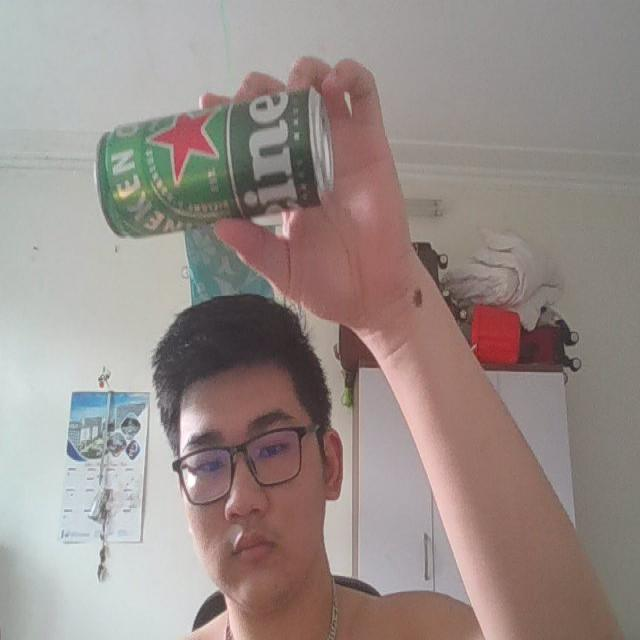Heineken: (96, 88, 330, 238)
